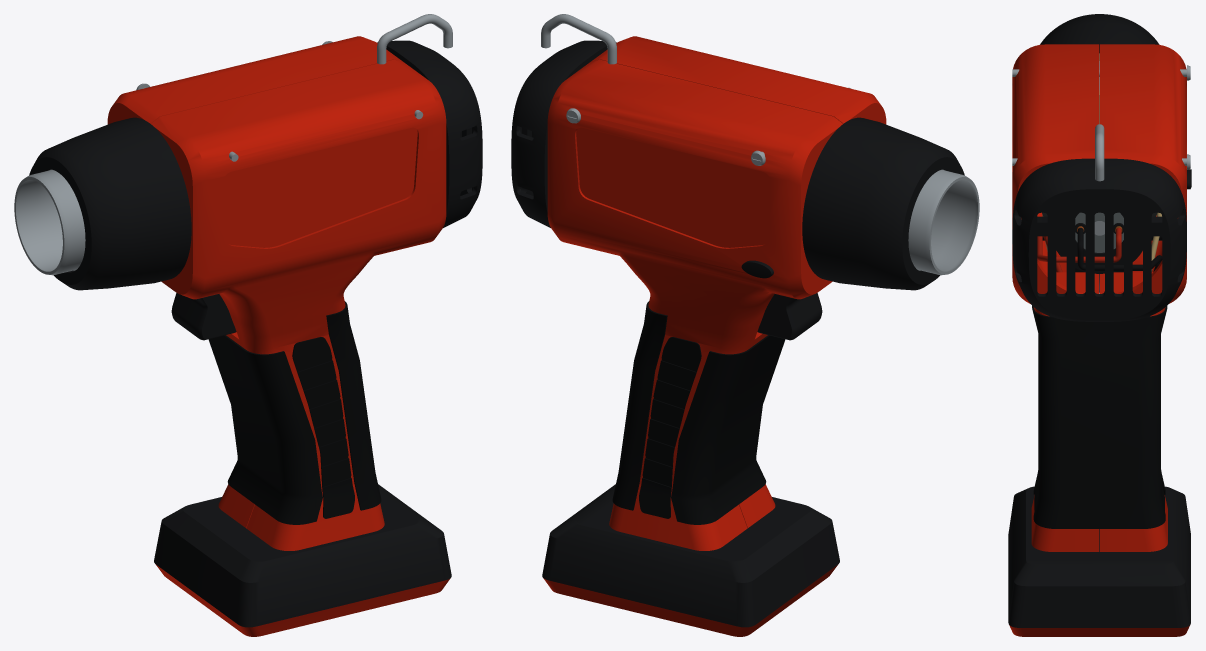
The picture shows the model from 3 angles, left to right: view 1: azimuth 30°, elevation 25°; view 2: azimuth 150°, elevation 25°; view 3: azimuth 270°, elevation 25°; orthographic projection. The views are drawn at different scales.
Parts seen in each view (by area): view 1: part_037_left_housing_shell, part_062_battery_shoe_upper_shell, part_045_guarded_nozzle_cover, part_050_front_grip_wrap, part_012_right_housing_shell, part_003_vented_rear_cover, part_020_outlet_and_heat_liner, part_038_left_grip_overmold, part_017_rear_grip_wrap, part_063_battery_shoe_lower_rim, part_051_curved_trigger, part_005_top_hanging_hook; view 2: part_012_right_housing_shell, part_062_battery_shoe_upper_shell, part_045_guarded_nozzle_cover, part_050_front_grip_wrap, part_037_left_housing_shell, part_003_vented_rear_cover, part_020_outlet_and_heat_liner, part_013_right_grip_overmold, part_017_rear_grip_wrap, part_063_battery_shoe_lower_rim, part_051_curved_trigger, part_005_top_hanging_hook; view 3: part_017_rear_grip_wrap, part_003_vented_rear_cover, part_062_battery_shoe_upper_shell, part_037_left_housing_shell, part_012_right_housing_shell, part_045_guarded_nozzle_cover, part_032_motor_mounting_cradle, part_063_battery_shoe_lower_rim, part_025_motor_supply_jacket, part_027_motor_steel_can, part_030_motor_return_jacket, part_005_top_hanging_hook.
Part boxes in pixels (<box>): part_037_left_housing_shell: <box>151,59,446,550</box>; part_062_battery_shoe_upper_shell: <box>154,484,451,627</box>; part_045_guarded_nozzle_cover: <box>29,117,191,290</box>; part_050_front_grip_wrap: <box>208,335,322,524</box>; part_012_right_housing_shell: <box>107,36,402,528</box>; part_003_vented_rear_cover: <box>377,40,482,227</box>; part_020_outlet_and_heat_liner: <box>14,169,85,275</box>; part_038_left_grip_overmold: <box>292,337,354,518</box>; part_017_rear_grip_wrap: <box>326,301,381,510</box>; part_063_battery_shoe_lower_rim: <box>155,564,450,636</box>; part_051_curved_trigger: <box>171,293,236,340</box>; part_005_top_hanging_hook: <box>377,14,452,64</box>; part_012_right_housing_shell: <box>547,59,842,550</box>; part_062_battery_shoe_upper_shell: <box>542,484,839,627</box>; part_045_guarded_nozzle_cover: <box>802,117,964,290</box>; part_050_front_grip_wrap: <box>671,335,785,524</box>; part_037_left_housing_shell: <box>591,36,886,528</box>; part_003_vented_rear_cover: <box>511,40,616,227</box>; part_020_outlet_and_heat_liner: <box>908,169,979,275</box>; part_013_right_grip_overmold: <box>639,337,701,518</box>; part_017_rear_grip_wrap: <box>612,301,667,510</box>; part_063_battery_shoe_lower_rim: <box>543,564,838,636</box>; part_051_curved_trigger: <box>757,293,822,340</box>; part_005_top_hanging_hook: <box>541,14,616,64</box>; part_017_rear_grip_wrap: <box>1032,305,1167,528</box>; part_003_vented_rear_cover: <box>1012,158,1186,321</box>; part_062_battery_shoe_upper_shell: <box>1008,486,1190,627</box>; part_037_left_housing_shell: <box>1012,44,1099,551</box>; part_012_right_housing_shell: <box>1100,44,1186,551</box>; part_045_guarded_nozzle_cover: <box>1040,14,1159,53</box>; part_032_motor_mounting_cradle: <box>1037,212,1162,273</box>; part_063_battery_shoe_lower_rim: <box>1009,625,1189,636</box>; part_025_motor_supply_jacket: <box>1037,228,1121,272</box>; part_027_motor_steel_can: <box>1075,212,1123,252</box>; part_030_motor_return_jacket: <box>1077,228,1162,271</box>; part_005_top_hanging_hook: <box>1095,124,1104,181</box>.
Size of the model in its own units: 0.1677 by 0.2082 by 0.0672.
